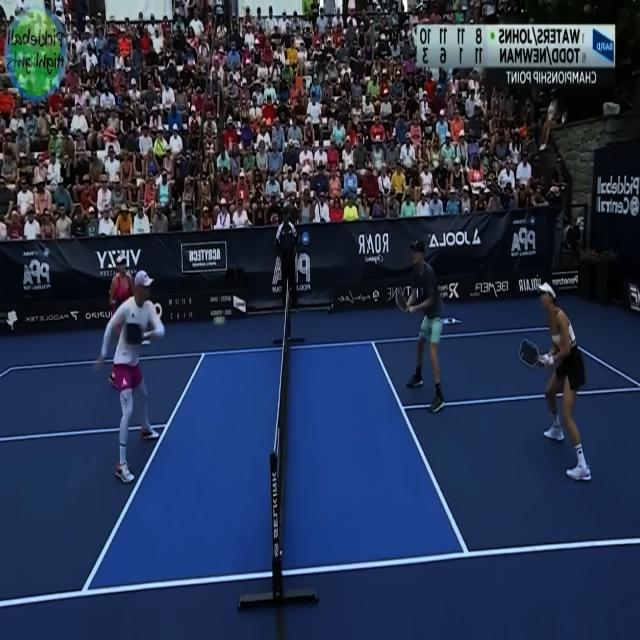Pickleball: (216, 312, 226, 328)
